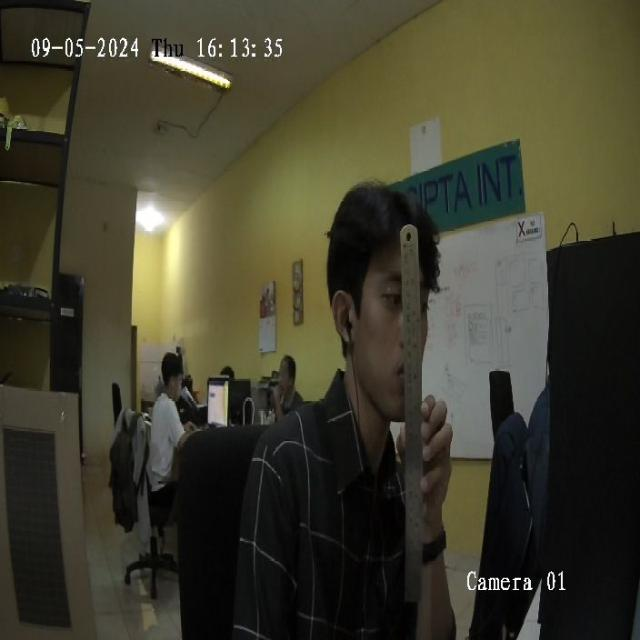Ruler: (401, 224, 422, 602)
